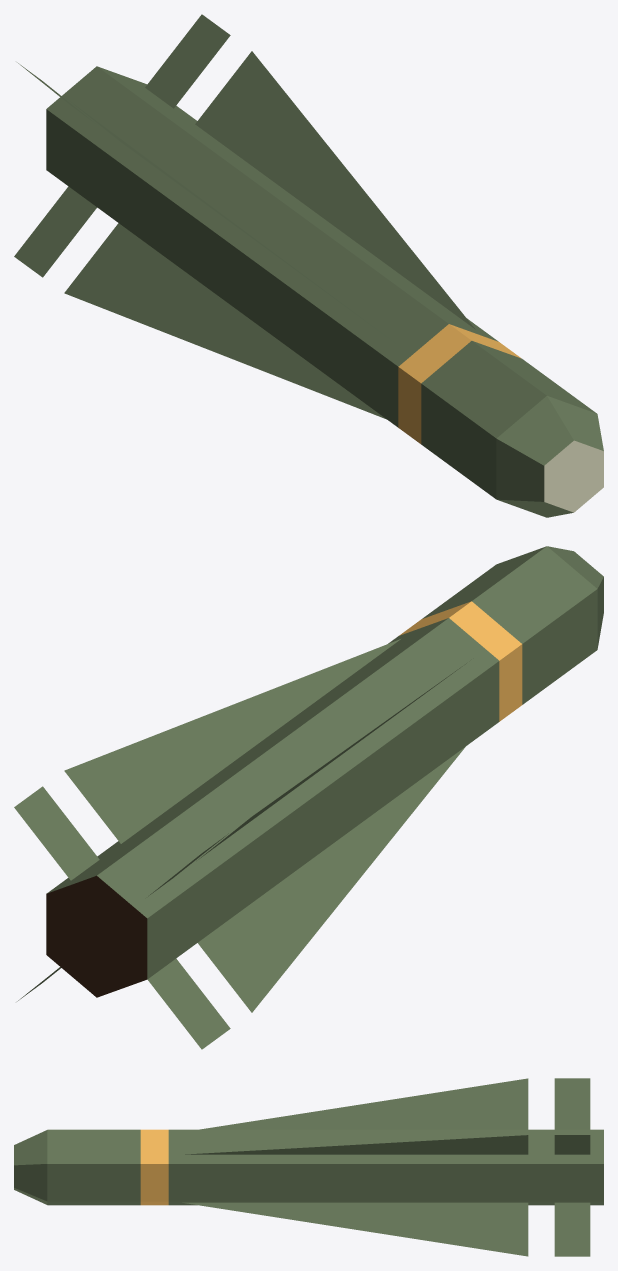
The model's file is AGM65.fbx.
The picture shows the model from 3 angles, top to bottom: view 1: azimuth 30°, elevation 25°; view 2: azimuth 150°, elevation 25°; view 3: azimuth 270°, elevation 25°; orthographic projection. The views are drawn at different scales.
Parts seen in each view (by area): view 1: Body, Fins; view 2: Body, Fins; view 3: Body, Fins.
Part boxes in pixels (x1=…): Body: x1=46, y1=66, x2=603, y2=517; Fins: x1=14, y1=14, x2=475, y2=419; Body: x1=46, y1=546, x2=603, y2=997; Fins: x1=14, y1=639, x2=466, y2=1049; Body: x1=14, y1=1129, x2=603, y2=1205; Fins: x1=182, y1=1078, x2=590, y2=1256.
Bounding box in the file's own units: 0.5584 × 0.5584 × 2.46.
